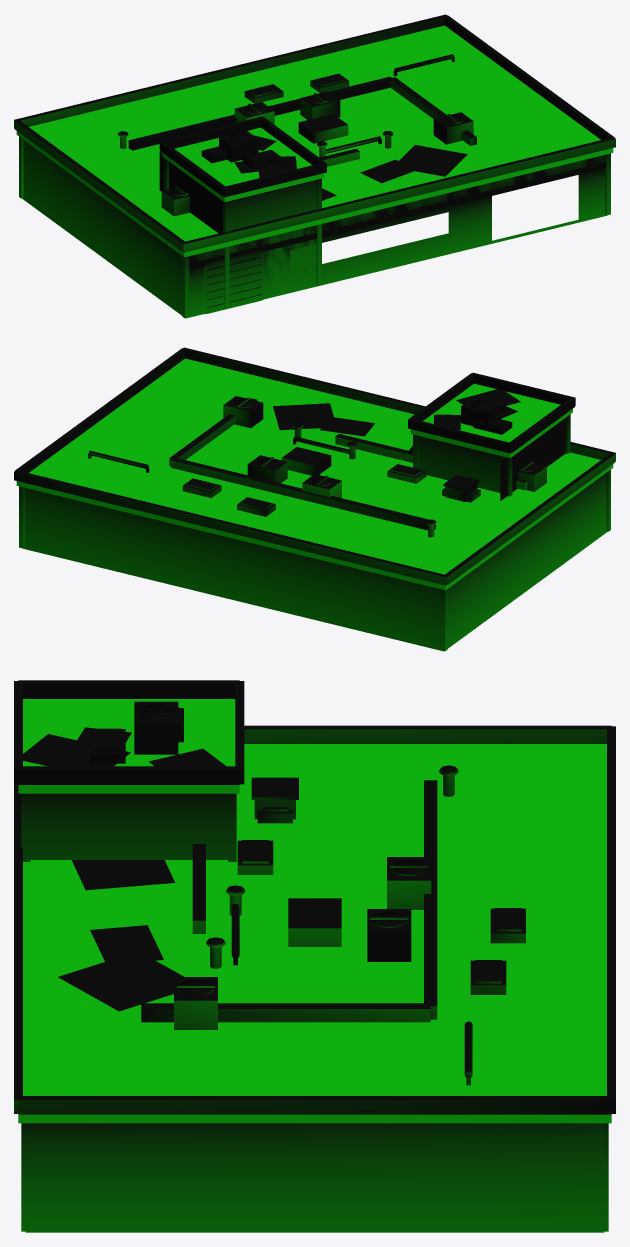
Rendered from factorysm.glb.
3 renders of one model, top to bottom at view 1: azimuth 30°, elevation 25°; view 2: azimuth 150°, elevation 25°; view 3: azimuth 270°, elevation 25°, orthographic. The views are drawn at different scales.
Parts seen in each view (by area): view 1: lod0; view 2: lod0; view 3: lod0.
Boxes of the visible parts, left/top/right/bottom form: lod0: left=14, top=14, right=615, bottom=318; lod0: left=14, top=347, right=615, bottom=651; lod0: left=14, top=680, right=615, bottom=1232.
Size of what is drawn, in the model's own units: 30 by 8.84 by 20.4.
